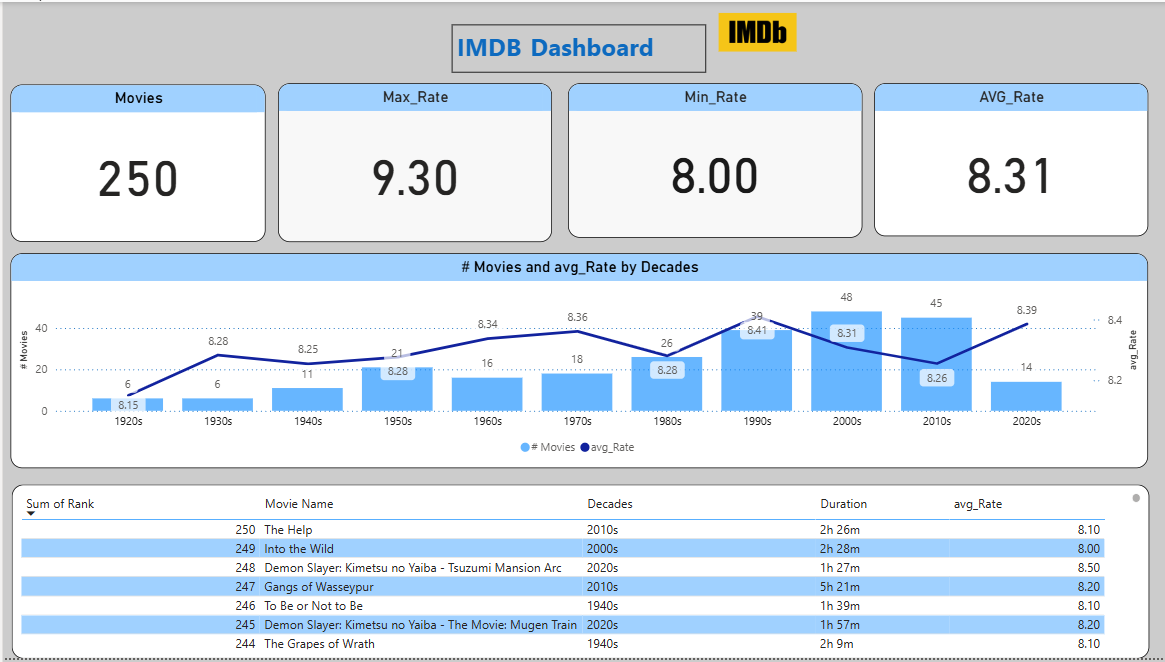

The dashboard page shown, as its layout file describes it:
{"tool":"powerbi","page":{"name":"Page 1","canvas":[1280,720],"ordinal":0},"visuals":[{"type":"card","title":" Movies","fields":{"Values":["Top 250 Movies.# Movies"]},"box":[8.8,90.5,280.1,173.1],"z":0},{"type":"card","title":"Max_Rate","fields":{"Values":["Top 250 Movies.max_rate"]},"box":[301.5,89.5,300.5,174.1],"z":1000},{"type":"card","title":"Min_Rate","fields":{"Values":["Top 250 Movies.min_rate"]},"box":[619.6,88.5,322.9,169.2],"z":2000},{"type":"card","title":"AVG_Rate","fields":{"Values":["Top 250 Movies.ave_Rate"]},"box":[957.1,89.5,300.5,168.3],"z":3000},{"type":"textbox","box":[493.1,25.3,279.1,52.5],"z":4000},{"type":"image","box":[781,0,95.3,66.1],"z":5000},{"type":"lineClusteredColumnComboChart","fields":{"Category":["Top 250 Movies.Decades"],"Y":["Top 250 Movies.# Movies"],"Y2":["Top 250 Movies.avg_Rate"]},"box":[8.8,275.3,1248.9,236.4],"z":6000},{"type":"tableEx","fields":{"Values":["Sum(Top 250 Movies.Rank)","Top 250 Movies.Movie Name","Top 250 Movies.Decades","Top 250 Movies.Duration","Top 250 Movies.avg_Rate"]},"box":[9,529,1249,191],"z":7000}]}

Visuals, with their boxes in screenshot pixels (x1, y1, x2, y2), scaled from the page's 1280x720 canvas onto the 1165x662 screenshot:
" Movies" card: bbox(8, 83, 263, 242)
"Max_Rate" card: bbox(274, 82, 548, 242)
"Min_Rate" card: bbox(564, 81, 858, 237)
"AVG_Rate" card: bbox(871, 82, 1145, 237)
textbox: bbox(449, 23, 703, 72)
image: bbox(711, 0, 798, 61)
lineClusteredColumnComboChart - Top 250 Movies.Decades x Top 250 Movies.# Movies: bbox(8, 253, 1145, 470)
tableEx - Sum(Top 250 Movies.Rank) x Top 250 Movies.Movie Name: bbox(8, 486, 1145, 661)
